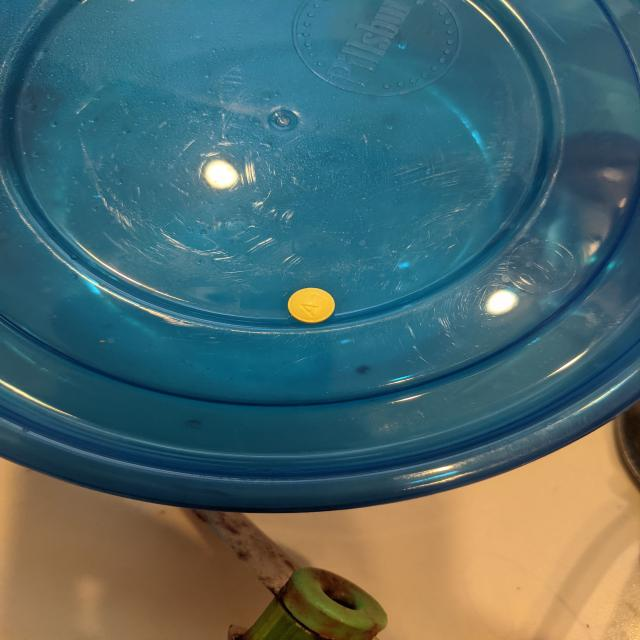non-organic waste: (287, 287, 336, 325)
